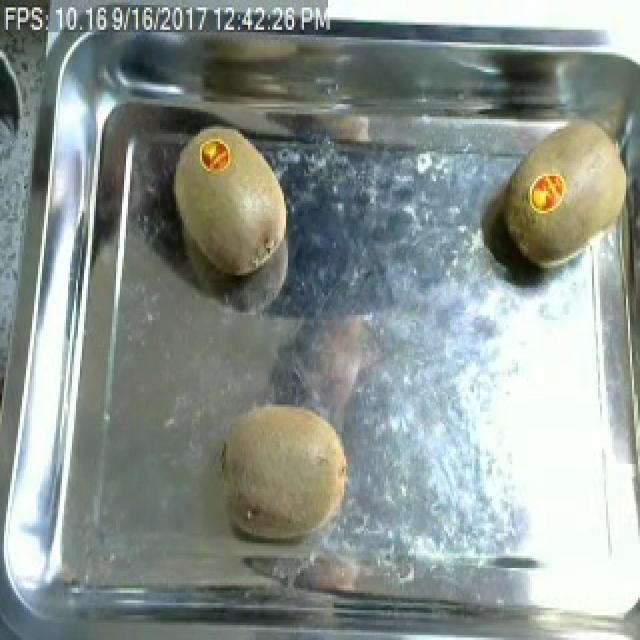Fruit: (490, 107, 640, 280), (152, 117, 296, 290), (210, 390, 358, 553)
